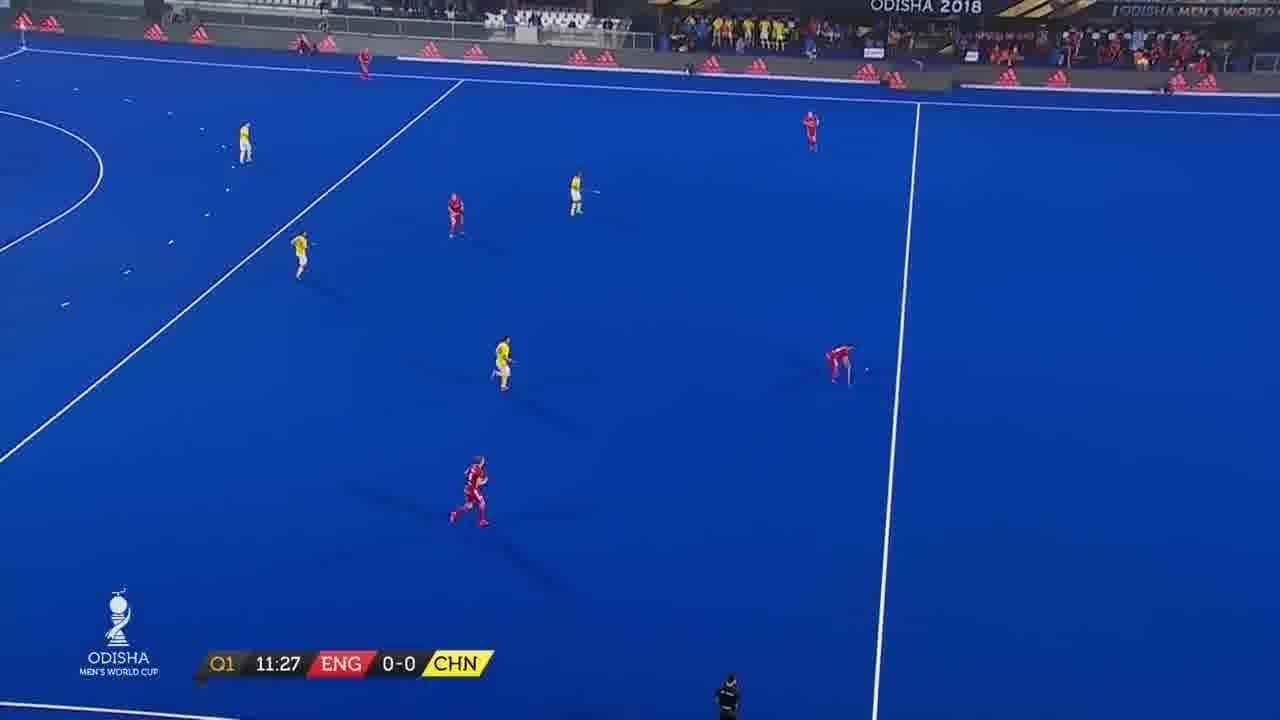ball: (862, 364, 872, 376)
